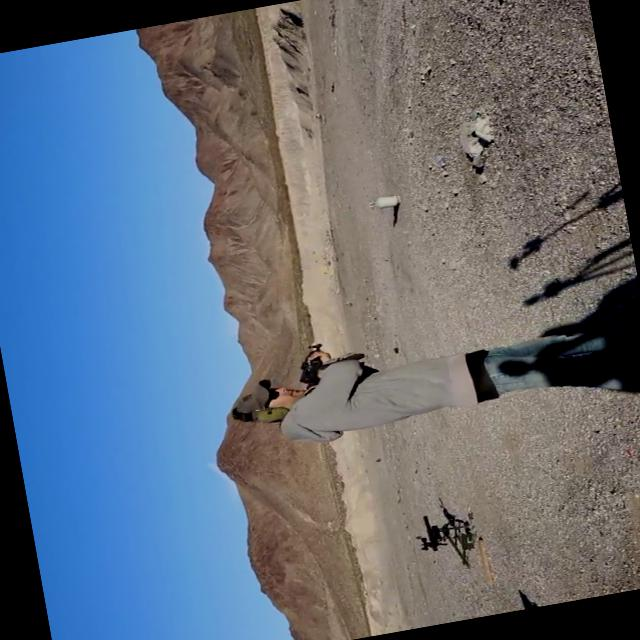long weapon: (376, 498, 488, 560), (288, 326, 359, 396)
